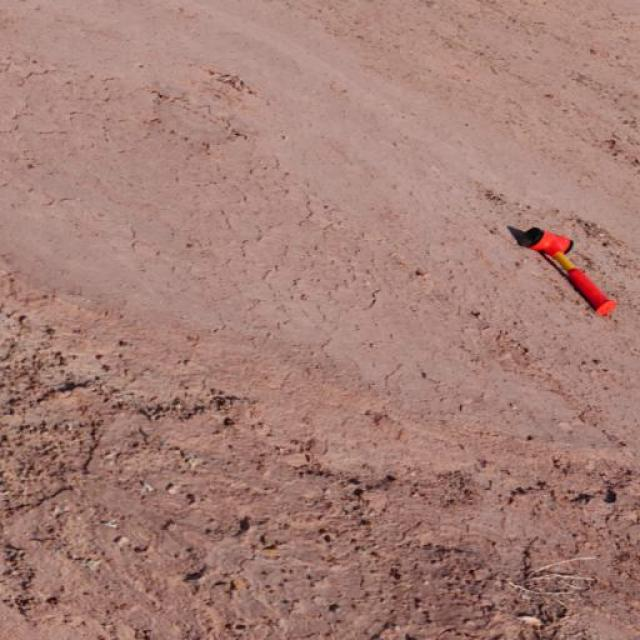mallet: (515, 226, 617, 318)
